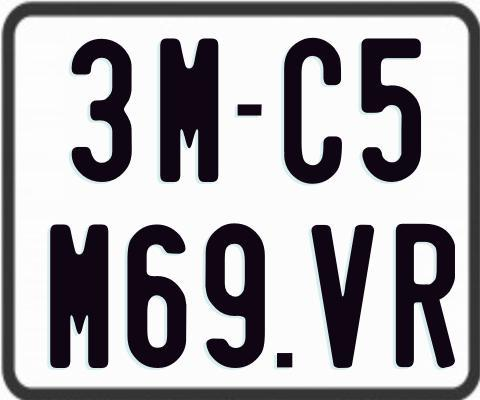3: (69, 39, 130, 188)
5: (358, 38, 418, 187)
6: (126, 225, 188, 374)
9: (204, 223, 270, 369)
C: (284, 35, 348, 185)
M: (157, 36, 217, 182), (48, 222, 106, 372)
R: (396, 223, 459, 373)
V: (310, 224, 375, 371)
